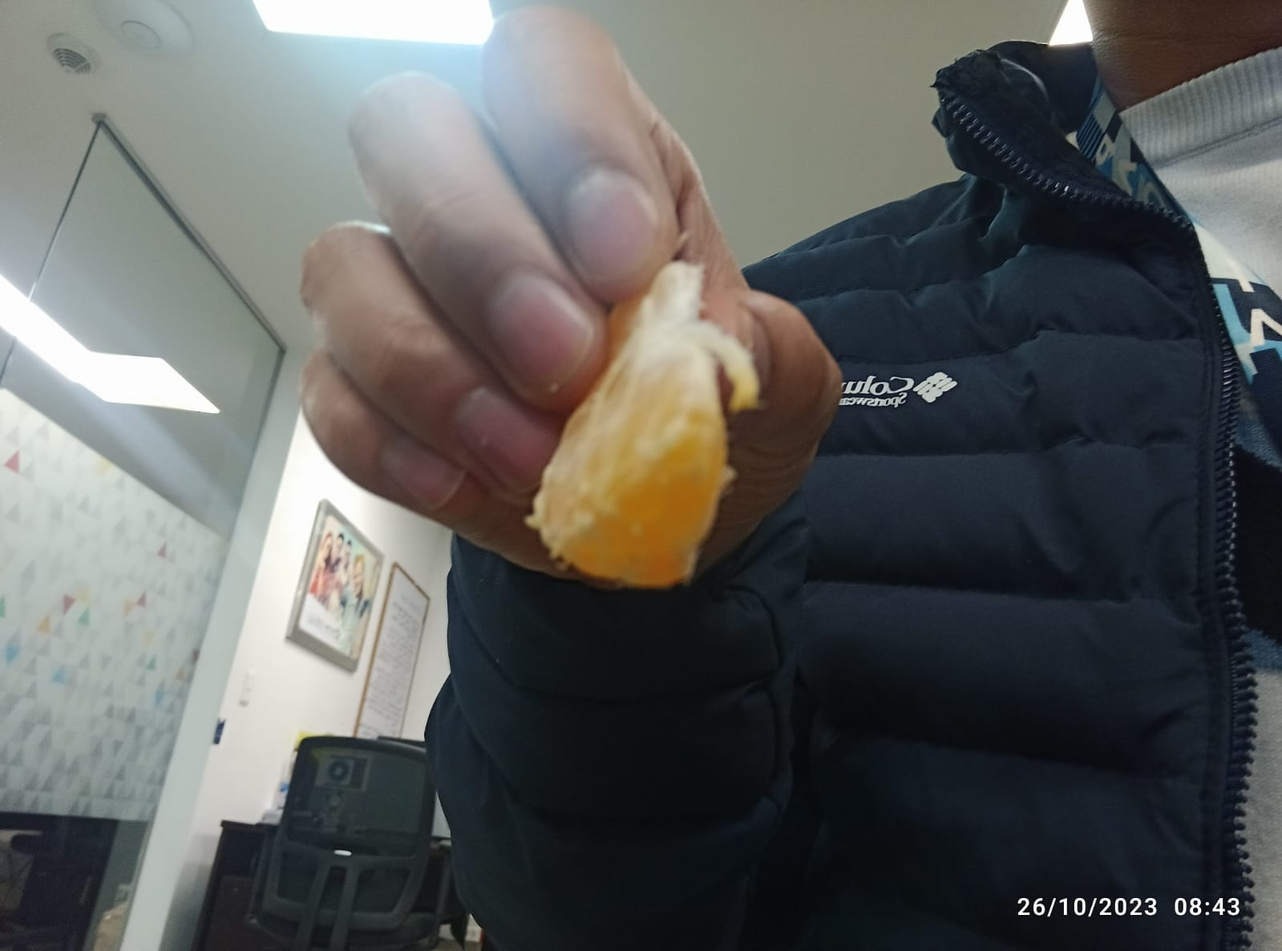Organico: (529, 263, 764, 586)
